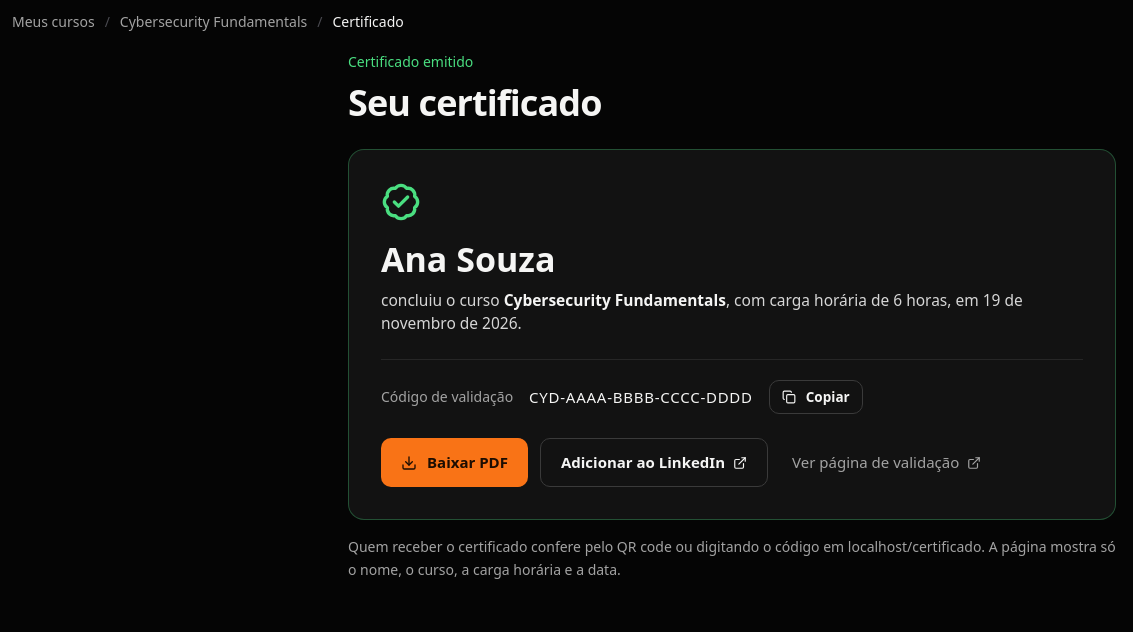
certificado › falha ao gerar o PDF avisa sem sair da tela
Click the button "Baixar PDF" at (454,463), box [381, 438, 528, 487]
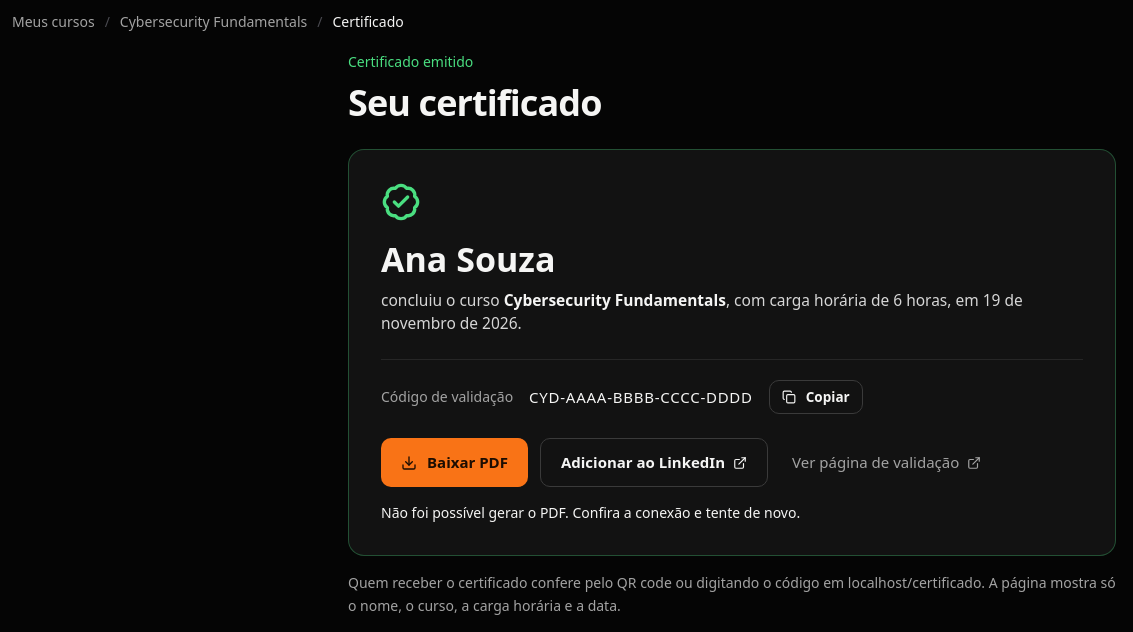
Check: the message shows "Não foi possível gerar o PDF", box [381, 503, 800, 522]
